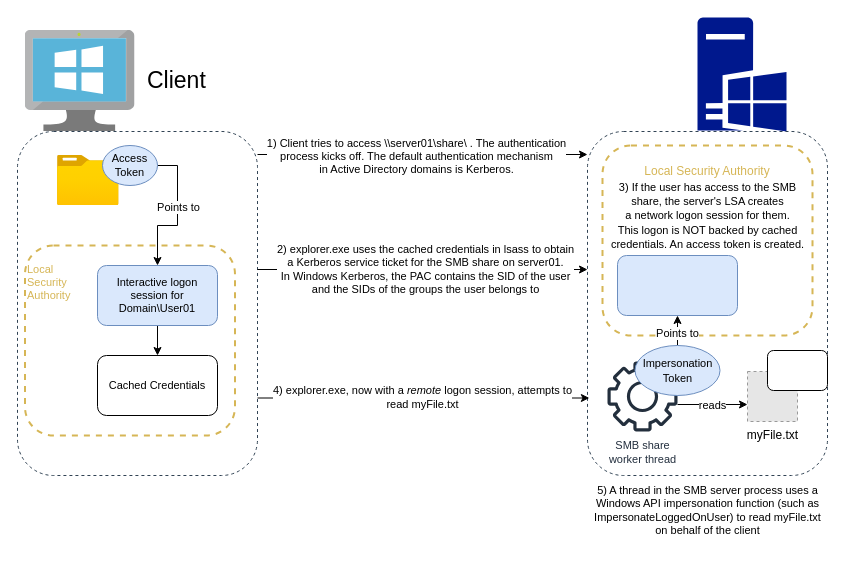
Some shapes in this 850 by 563 pixel diagram are drawn without their labels. Grey dashed boxes stand in for pictures. The shapes that lost their labels are listed below. From the top down, each one's centre as x and y in pixels, then its label:
At point (741, 74): "Server".
At point (88, 180): "explorer.exe".
At point (677, 285): "Network logon session for Domain\User01".
At point (797, 370): "Security Descriptor".
